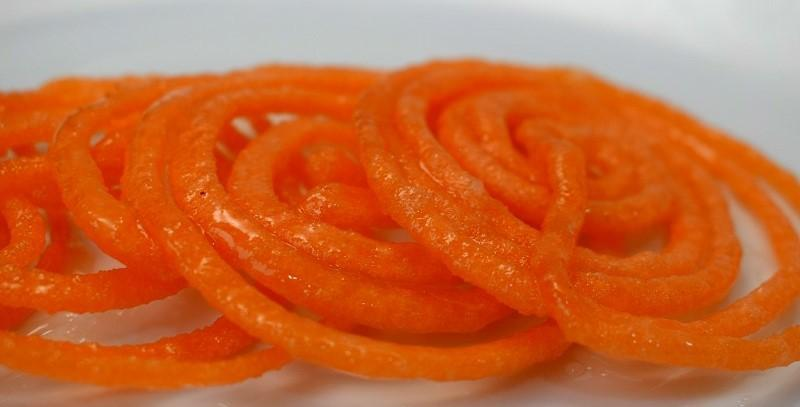Jalebi: (2, 55, 800, 392)
